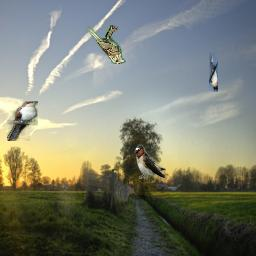Cuckoo: (7, 101, 38, 141)
Sparrow: (86, 25, 126, 64)
Swallow: (134, 144, 166, 180), (209, 52, 218, 92)
